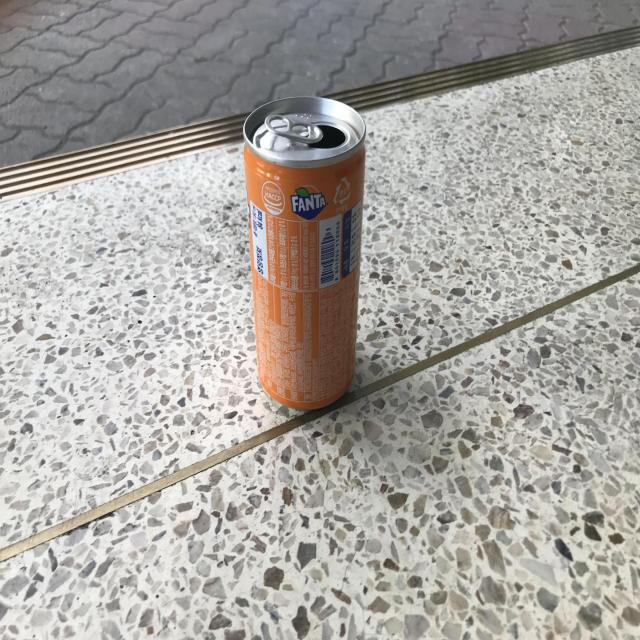can: (243, 96, 366, 409)
